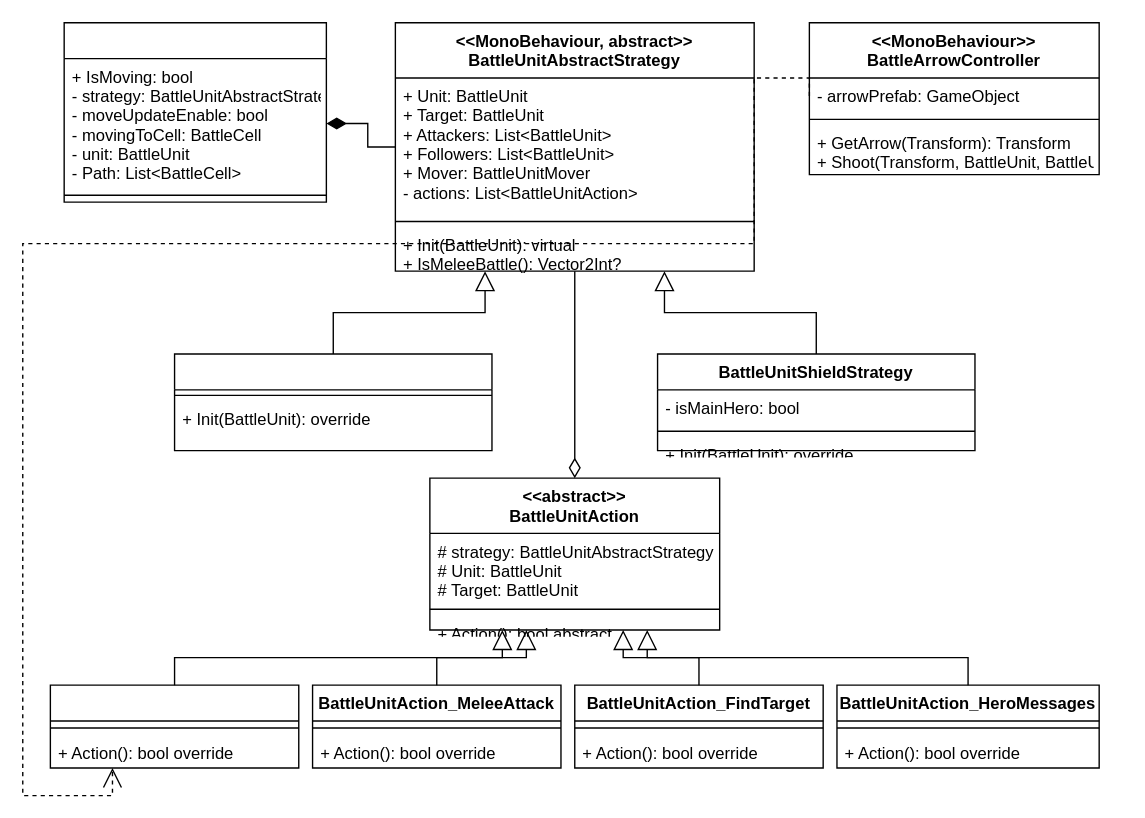
This 1145x818 diagram has some shape labels left out. Each missing label, with the box of its shape:
BattleUnitAction_BowAttack: (49, 684, 299, 768)
BattleUnitBowStrategy: (173, 353, 492, 451)
BattleUnitMover: (63, 21, 326, 202)
